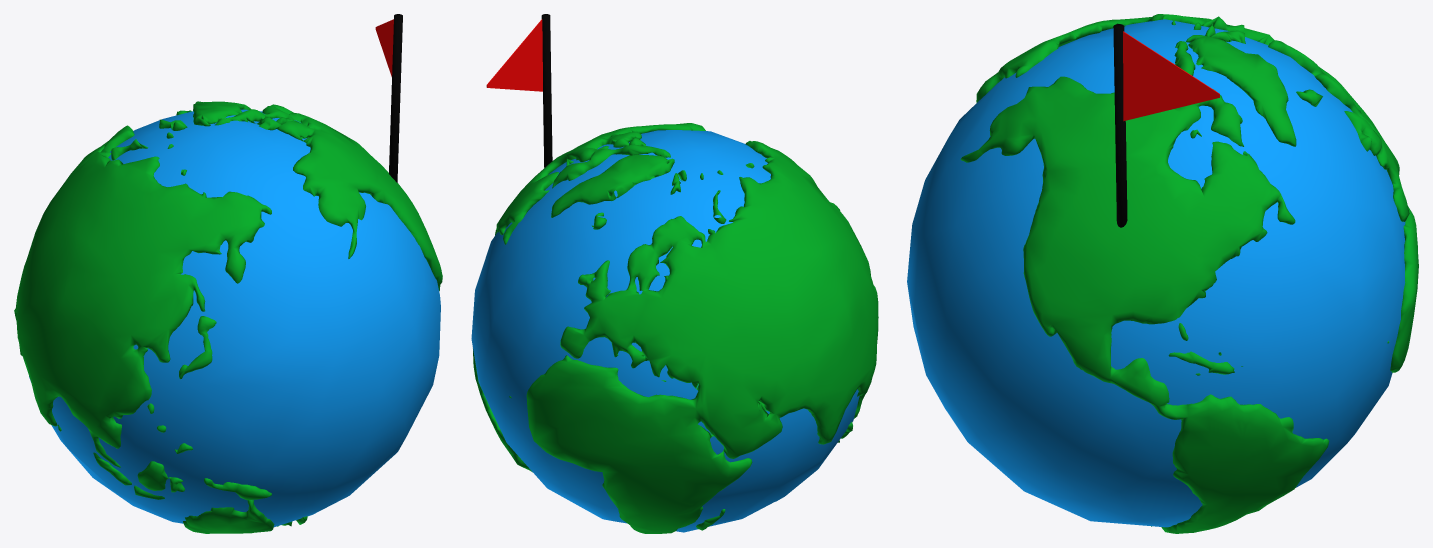
The model's file is earth-2.glb.
The picture shows the model from 3 angles, left to right: view 1: azimuth 30°, elevation 25°; view 2: azimuth 150°, elevation 25°; view 3: azimuth 270°, elevation 25°; orthographic projection. The views are drawn at different scales.
Parts seen in each view (by area): view 1: low_poly_earth, low_poly_earth.001, Cylinder, Plane; view 2: low_poly_earth.001, low_poly_earth, Plane, Cylinder; view 3: low_poly_earth, low_poly_earth.001, Plane, Cylinder.
Boxes of the visible parts, left/top/right/bottom form: low_poly_earth: left=29, top=109, right=440, bottom=527; low_poly_earth.001: left=14, top=101, right=442, bottom=533; Cylinder: left=389, top=14, right=402, bottom=182; Plane: left=375, top=19, right=393, bottom=76; low_poly_earth.001: left=473, top=123, right=878, bottom=533; low_poly_earth: left=471, top=130, right=859, bottom=532; Plane: left=486, top=19, right=542, bottom=91; Cylinder: left=541, top=14, right=552, bottom=167; low_poly_earth: left=907, top=19, right=1405, bottom=527; low_poly_earth.001: left=960, top=14, right=1418, bottom=533; Plane: left=1123, top=31, right=1219, bottom=121; Cylinder: left=1113, top=24, right=1127, bottom=227.
Bounding box in the file's own units: 3.36 × 4.1 × 3.32.
